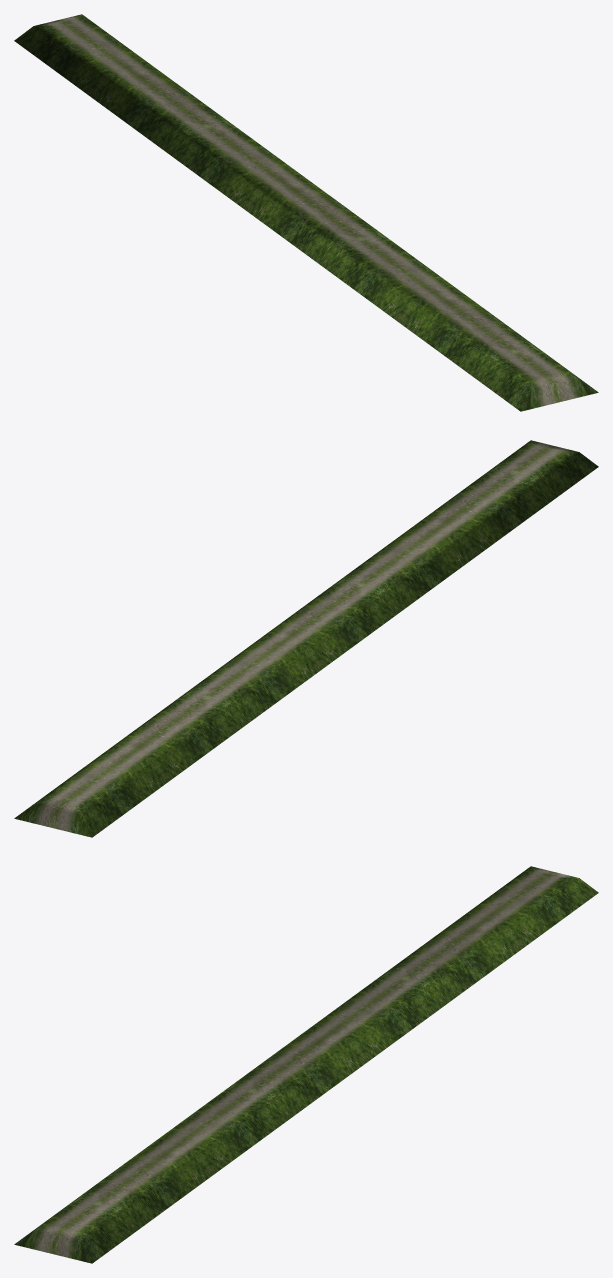
Rendered from 1r_100mPros.gltf.
3 renders of one model, top to bottom at view 1: azimuth 30°, elevation 25°; view 2: azimuth 150°, elevation 25°; view 3: azimuth 330°, elevation 25°, orthographic.
Bounding box in the file's own units: 9.36 × 2.01 × 105.
Materials: 1 (1 with a texture image).
